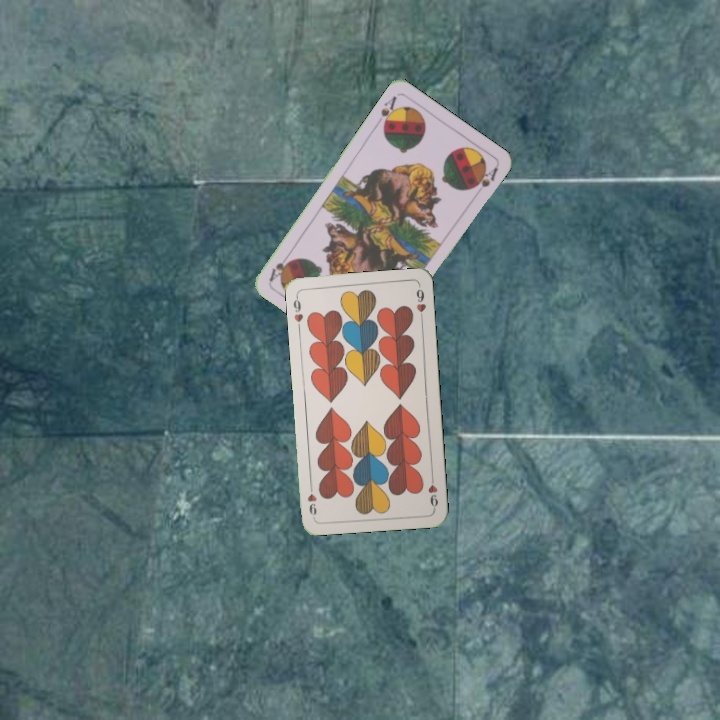H9: (424, 471, 441, 511), (289, 291, 306, 324)
SA: (372, 92, 401, 131)
